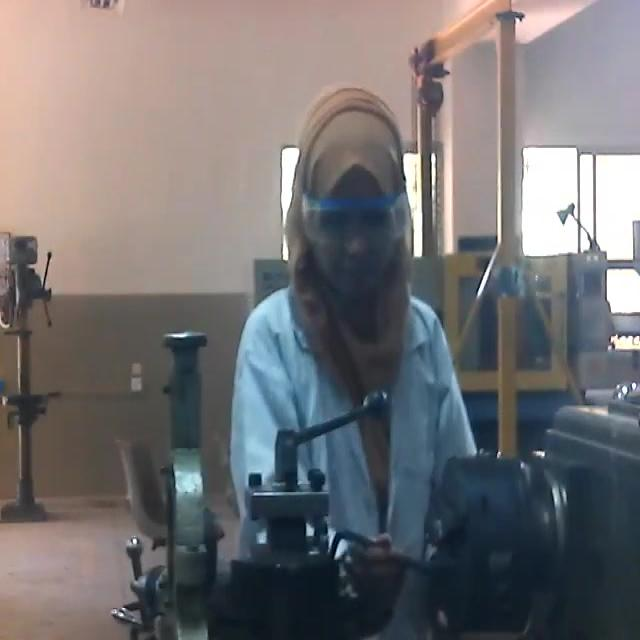googles: (289, 172, 420, 252)
labcoat: (229, 277, 486, 565)
